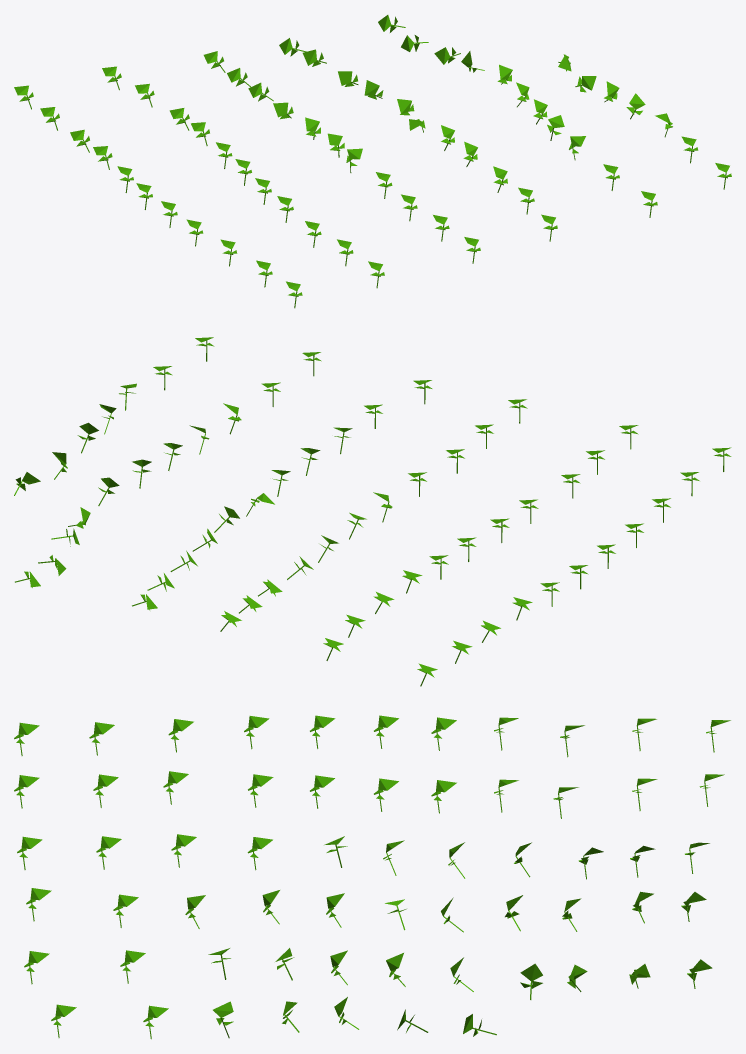
The model's file is destroyed.fbx.
3 renders of one model, top to bottom at view 1: azimuth 30°, elevation 25°; view 2: azimuth 150°, elevation 25°; view 3: azimuth 270°, elevation 25°, orthographic. The views are drawn at different scales.
Bounding box in the file's own units: 112 × 7 × 112.
